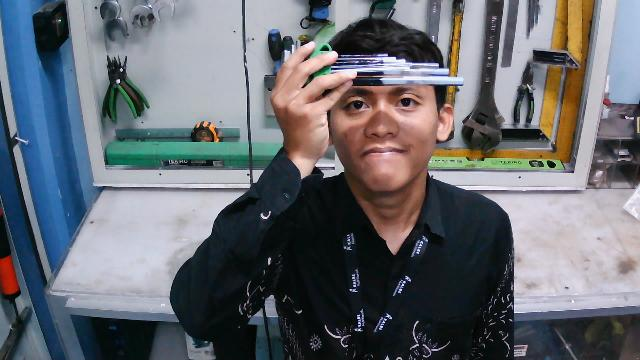kunci_l: (275, 38, 468, 97)
